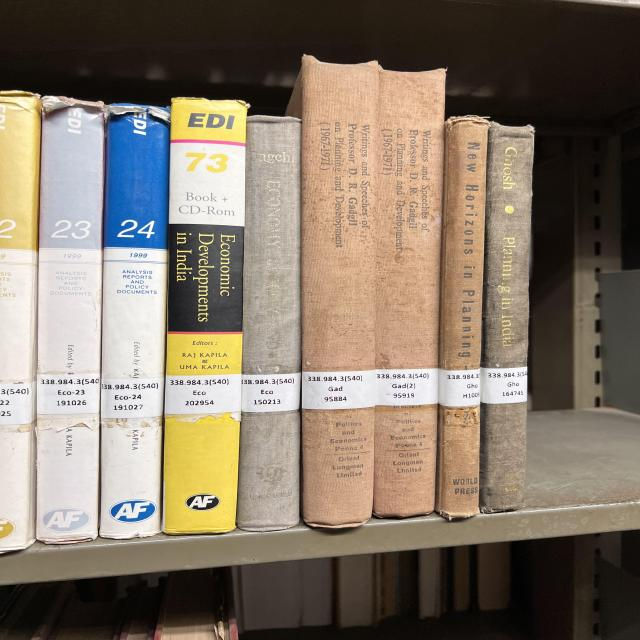Book: (288, 56, 380, 529), (163, 98, 247, 534), (373, 69, 445, 518), (37, 96, 105, 544), (100, 105, 170, 539), (237, 115, 302, 531), (480, 122, 535, 512), (437, 116, 490, 519)
Label: (165, 374, 242, 414), (302, 370, 375, 410), (37, 374, 100, 414), (102, 378, 163, 419), (242, 372, 302, 412), (375, 369, 438, 406), (480, 366, 527, 404), (438, 369, 480, 406)
